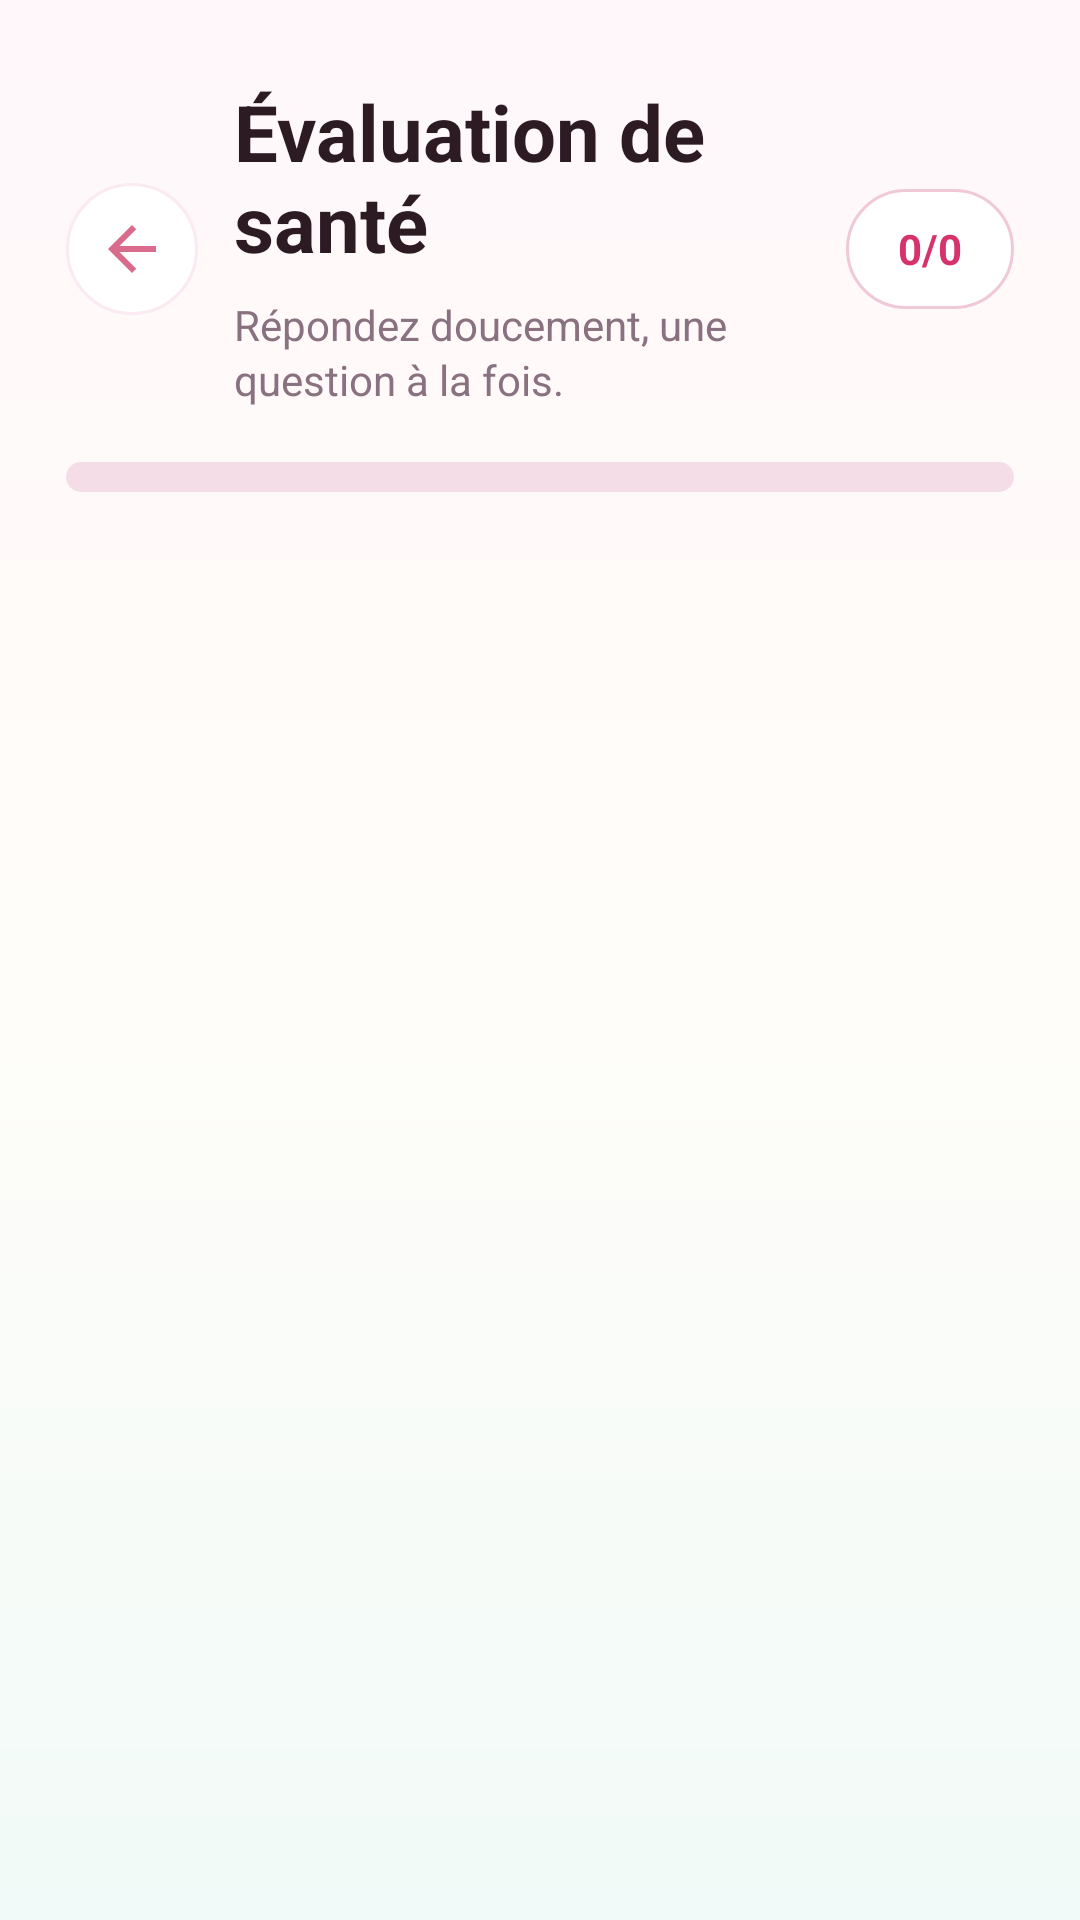

Locate icon controls on the screen. Image size 1080px x 1920px, boxes as rect(x1, y1, x2, y2).
Retour: rect(108, 225, 156, 273)
